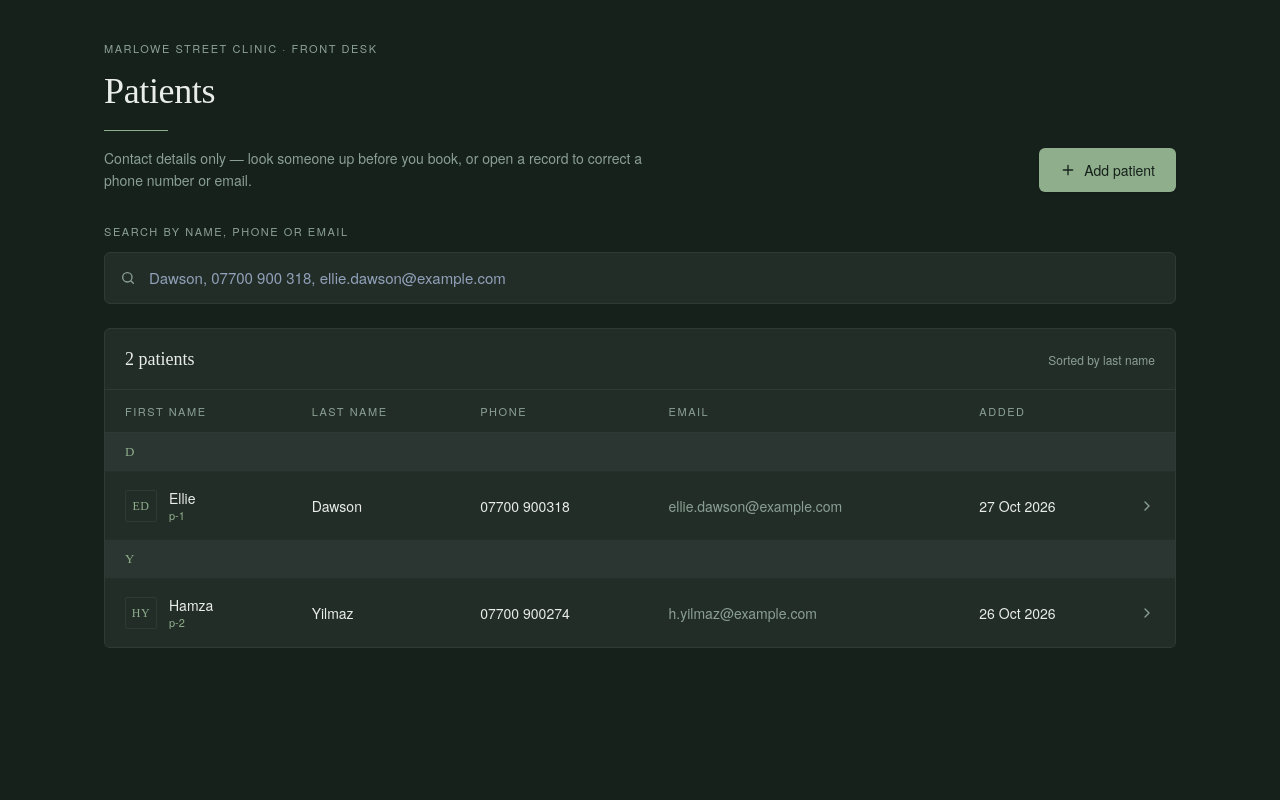
Patients screen › [AC empty-search] filters the API-backed list and shows the existing empty state for no matches
Expected: the text "Dawson" is shown, [292,471,460,540]
Type "nobody-like-this" into the search field at (640, 278), box [104,252,1176,304]
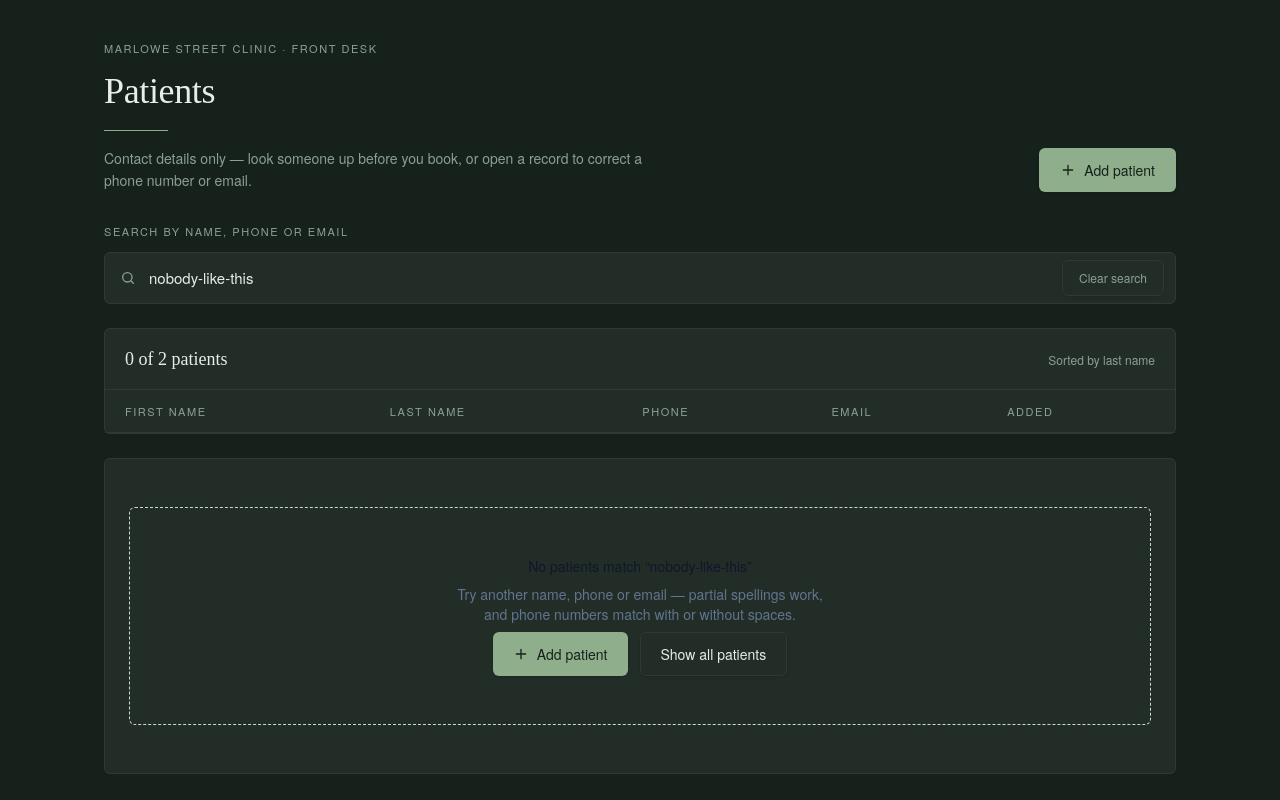
Now the text "Dawson" is gone
